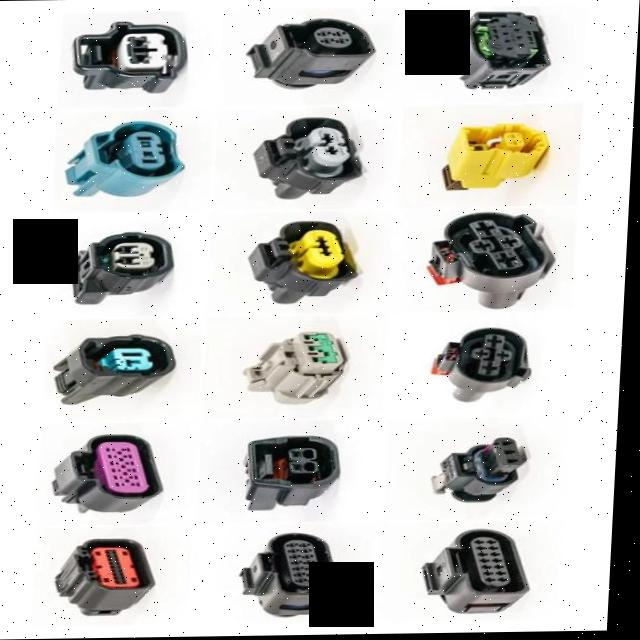connector: (447, 214, 556, 308), (66, 121, 184, 196), (251, 222, 359, 303), (255, 118, 363, 199), (248, 20, 374, 88), (430, 531, 534, 613), (58, 335, 178, 404), (60, 435, 166, 511), (248, 534, 346, 616), (73, 22, 185, 92), (61, 539, 159, 615), (453, 13, 549, 89), (74, 232, 175, 304), (438, 329, 534, 402), (252, 332, 349, 403), (251, 437, 343, 510), (449, 125, 550, 190), (438, 439, 530, 501)
